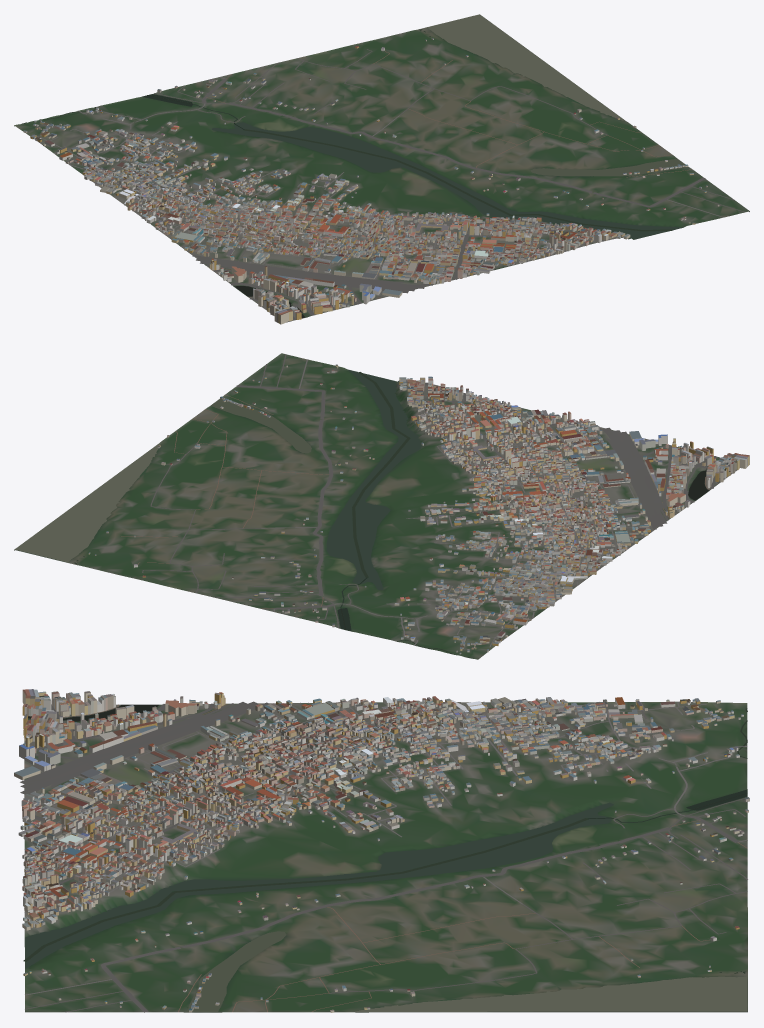
3 views of the same model, one above another, from view 1: azimuth 30°, elevation 25°; view 2: azimuth 150°, elevation 25°; view 3: azimuth 270°, elevation 25° (orthographic). The views are drawn at different scales.
Visible parts, largest first — view 1: ground, buildings, water, roads; view 2: ground, buildings, water, roads; view 3: ground, buildings, water, roads.
Part boxes in pixels (x1,y1,x2,y2): ground: (14,17,749,322); buildings: (23,38,719,324); water: (22,14,688,317); roads: (32,49,745,320); ground: (14,353,732,659); buildings: (88,364,749,654); water: (15,369,708,657); roads: (121,354,736,647); ground: (24,701,747,1012); buildings: (14,689,749,1012); water: (23,704,747,1011); roads: (20,701,747,1012).
Bounding box in the file's own units: 1416 × 46.17 × 1427.
